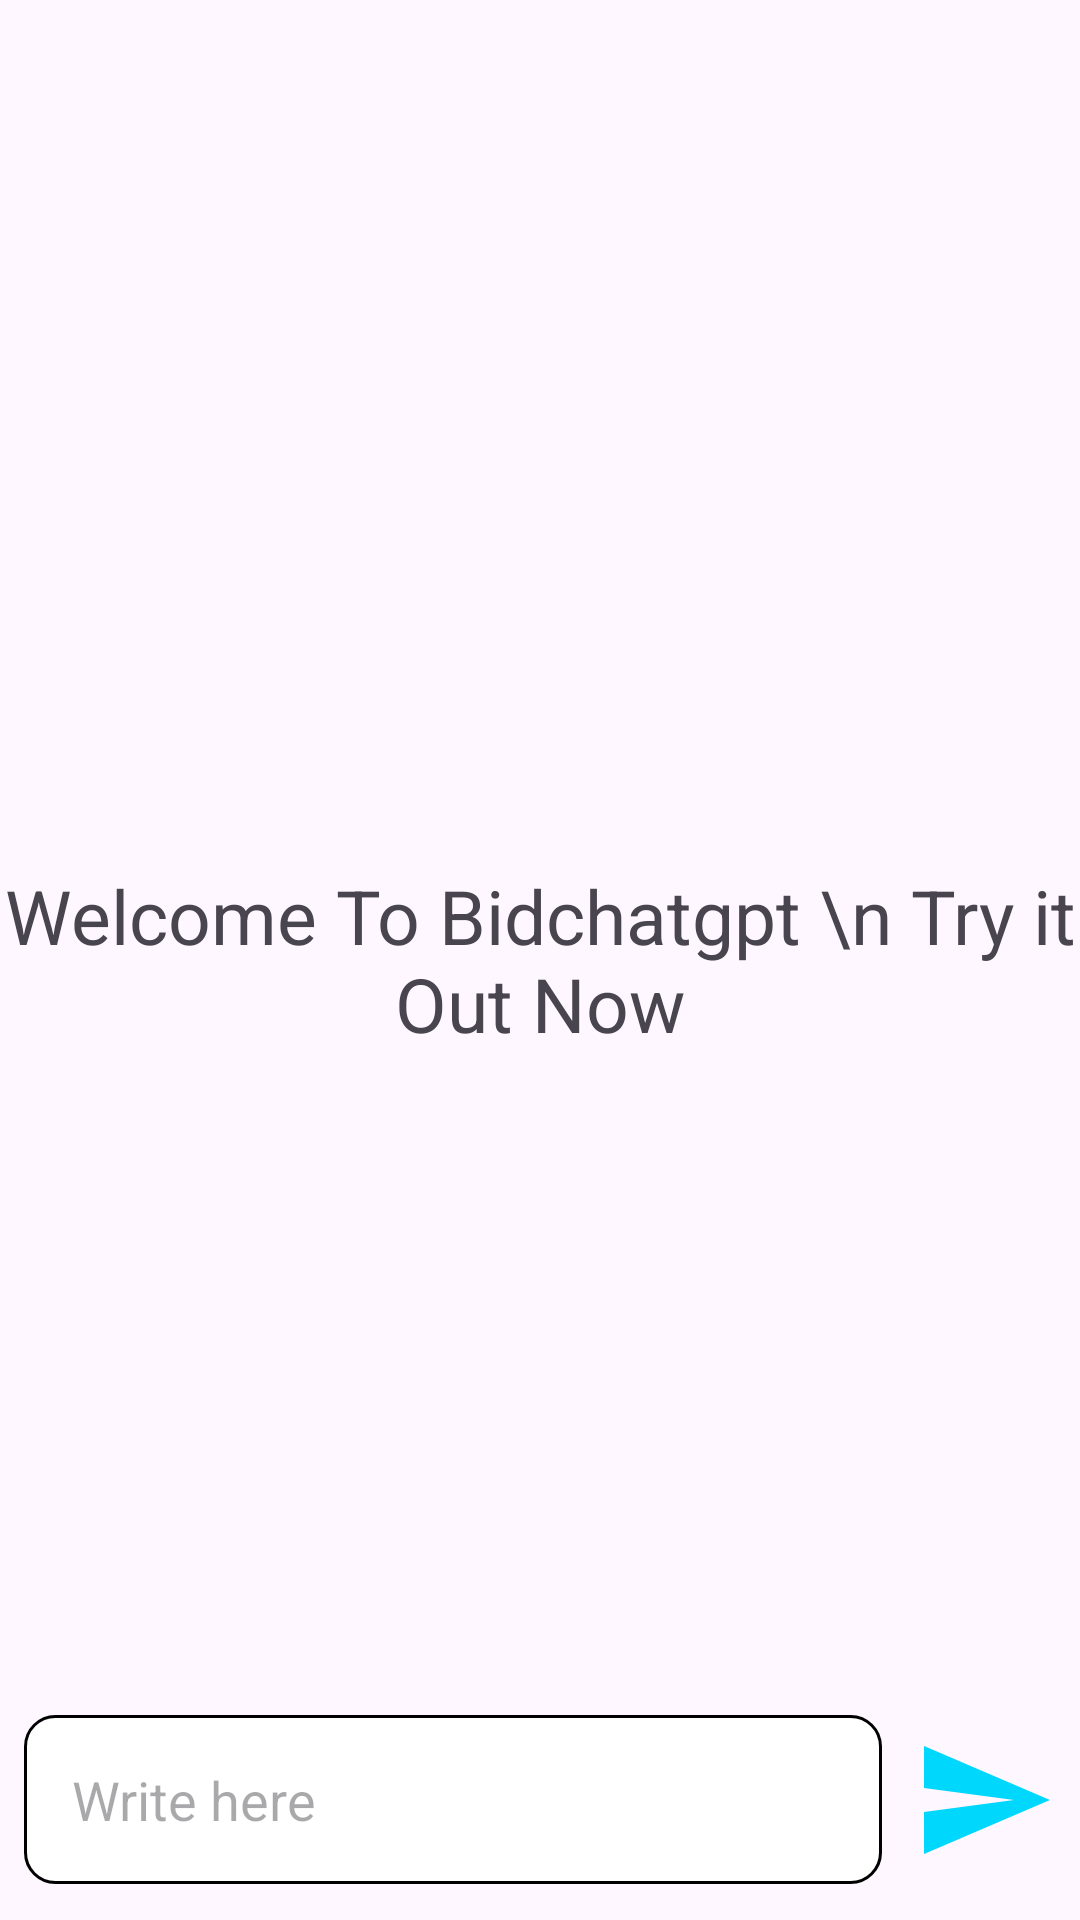

Where to tap for icons on this 1080px x 1920px app screen, as [x,y]:
send: [987,1800]
